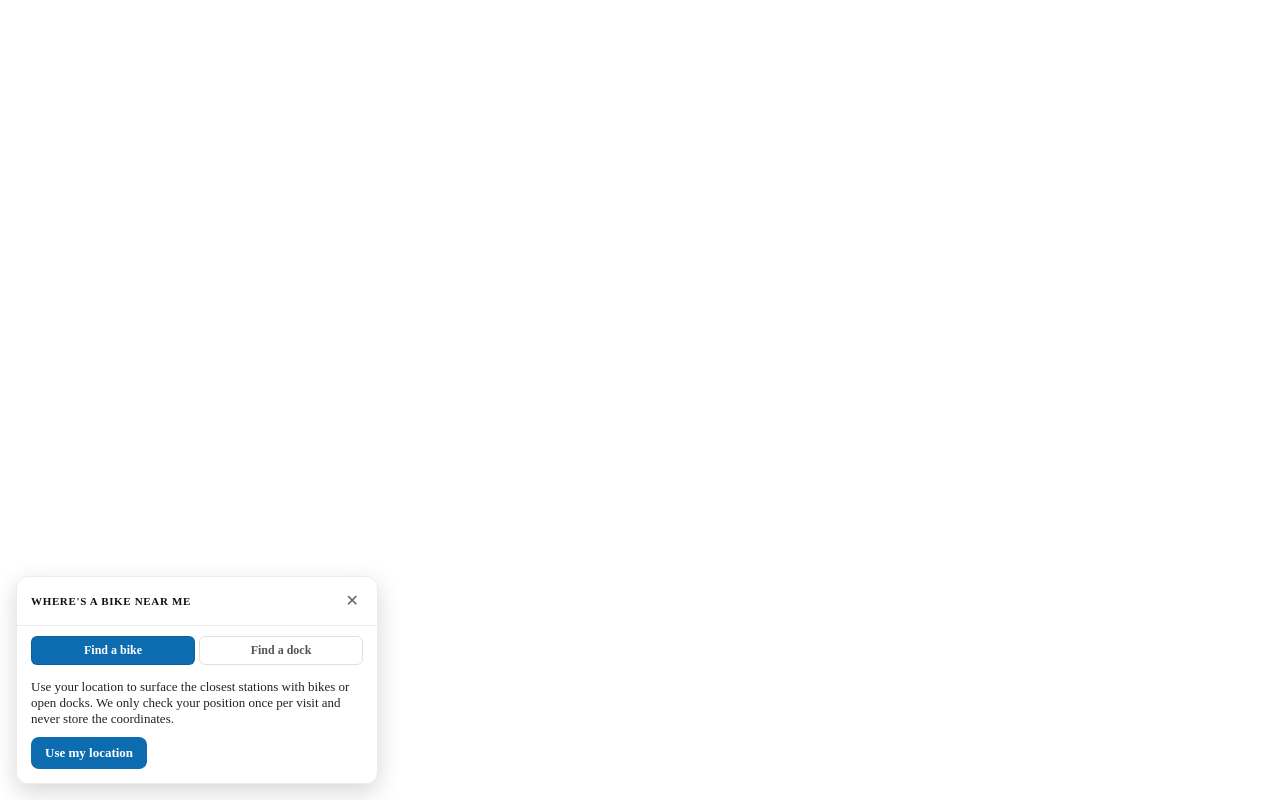
Scenario: NearbyStationsSheet › shows the denied state and a retry when geolocation is rejected
Click the button with test id "nearby-sheet-request".
click(89, 753)  # box [31,737,147,769]
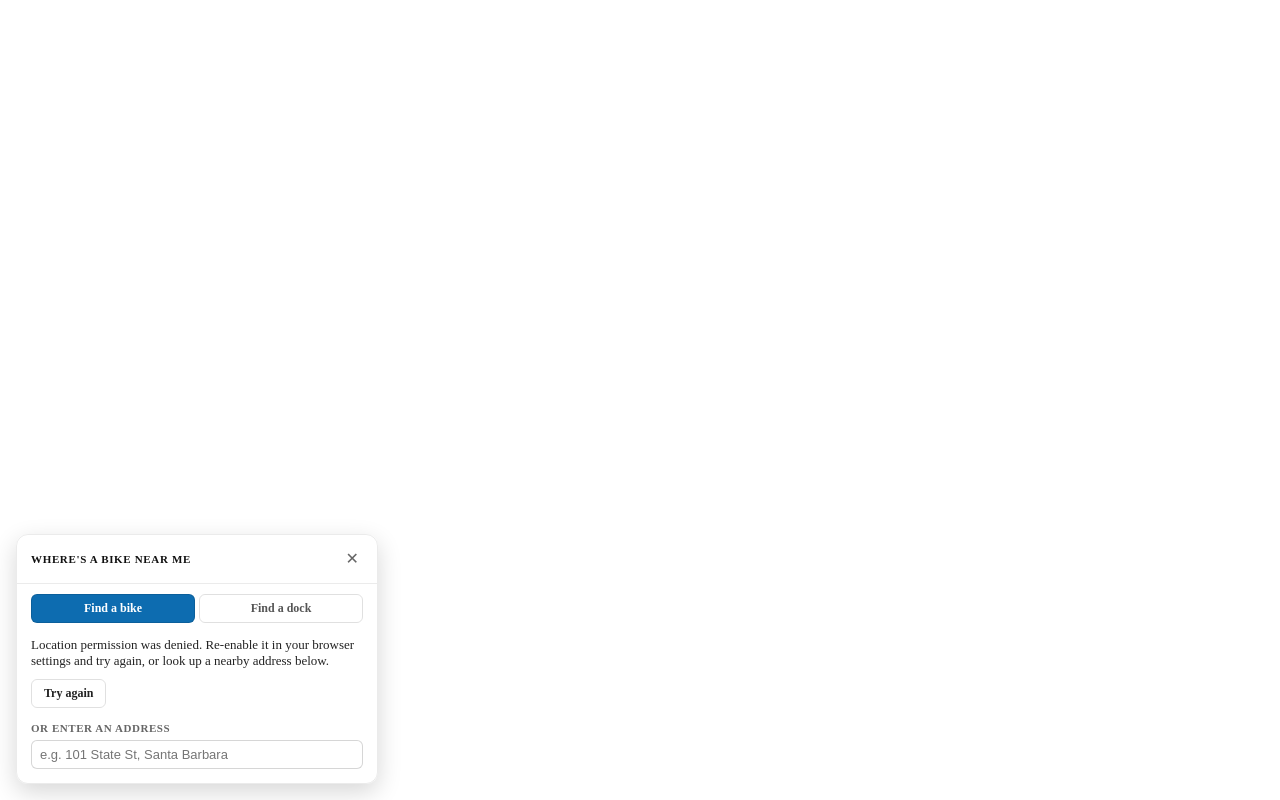
Result: the element with test id "nearby-sheet-denied" is shown at [31,637,363,769]
Result: the button with test id "nearby-sheet-retry" is shown at [31,679,106,708]
